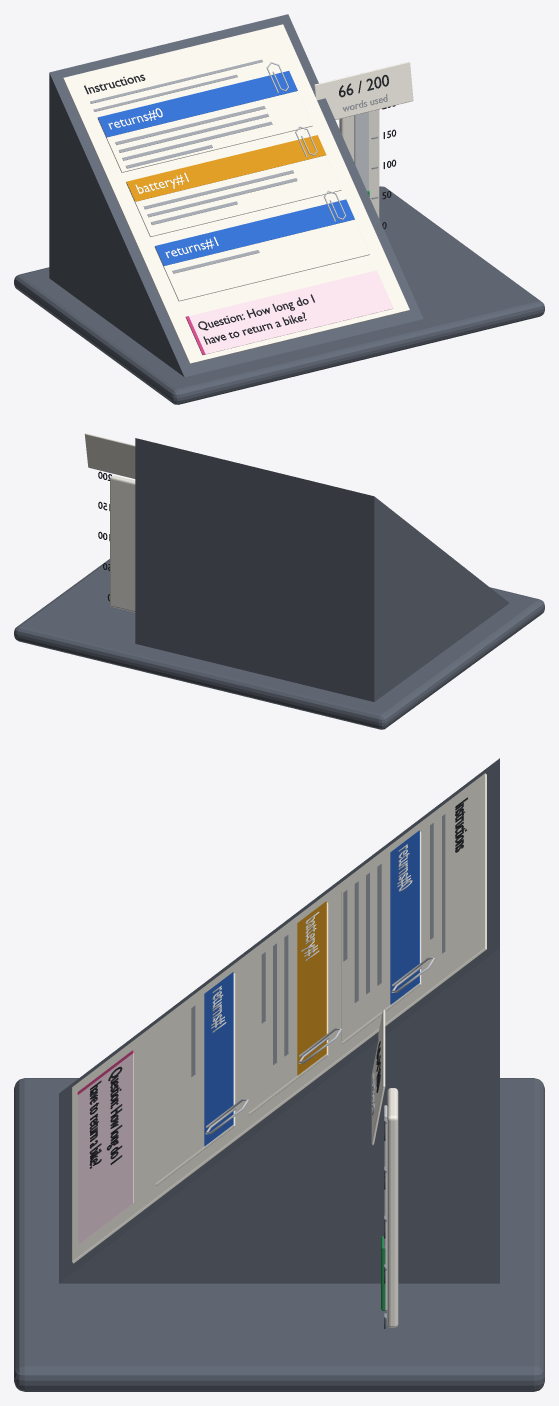
The model's file is prompt_builder.glb.
3 views of the same model, one above another, from view 1: azimuth 30°, elevation 25°; view 2: azimuth 150°, elevation 25°; view 3: azimuth 270°, elevation 25° (orthographic). The views are drawn at different scales.
Parts seen in each view (by area): view 1: sheet, slope, stand, q_box, returns#1_stock, battery#1_stock, returns#0_stock, returns#1_stripe, battery#1_stripe, returns#0_stripe, tag_plate, returns#0_l0 (+5 smaller); view 2: slope, stand, backboard, tag_plate; view 3: slope, stand, sheet, returns#1_stock, q_box, battery#1_stock, returns#0_stock, returns#1_stripe, battery#1_stripe, returns#0_stripe, backboard, returns#0_l0 (+4 smaller).
Part boxes in pixels (x1,y1,x2,y2): sheet: [63, 24, 409, 363]; slope: [49, 14, 423, 377]; stand: [14, 186, 544, 404]; q_box: [185, 270, 393, 355]; returns#1_stock: [154, 219, 369, 301]; battery#1_stock: [126, 155, 341, 236]; returns#0_stock: [97, 91, 312, 172]; returns#1_stripe: [155, 199, 354, 265]; battery#1_stripe: [126, 135, 326, 201]; returns#0_stripe: [98, 71, 297, 137]; tag_plate: [314, 61, 413, 119]; returns#0_l0: [115, 106, 272, 168]; slope: [135, 438, 509, 701]; stand: [14, 559, 544, 729]; backboard: [110, 475, 135, 612]; tag_plate: [84, 433, 135, 478]; slope: [59, 758, 499, 1283]; stand: [14, 1078, 544, 1391]; sheet: [72, 773, 486, 1263]; returns#1_stock: [155, 973, 235, 1185]; q_box: [78, 1051, 133, 1245]; battery#1_stock: [248, 902, 328, 1115]; returns#0_stock: [341, 831, 421, 1044]; returns#1_stripe: [204, 972, 233, 1145]; battery#1_stripe: [297, 901, 326, 1075]; returns#0_stripe: [390, 830, 419, 1004]; backboard: [387, 1088, 398, 1327]; returns#0_l0: [343, 864, 381, 1002].
Bounding box in the file's own units: 0.78 × 0.4414 × 0.5903.
